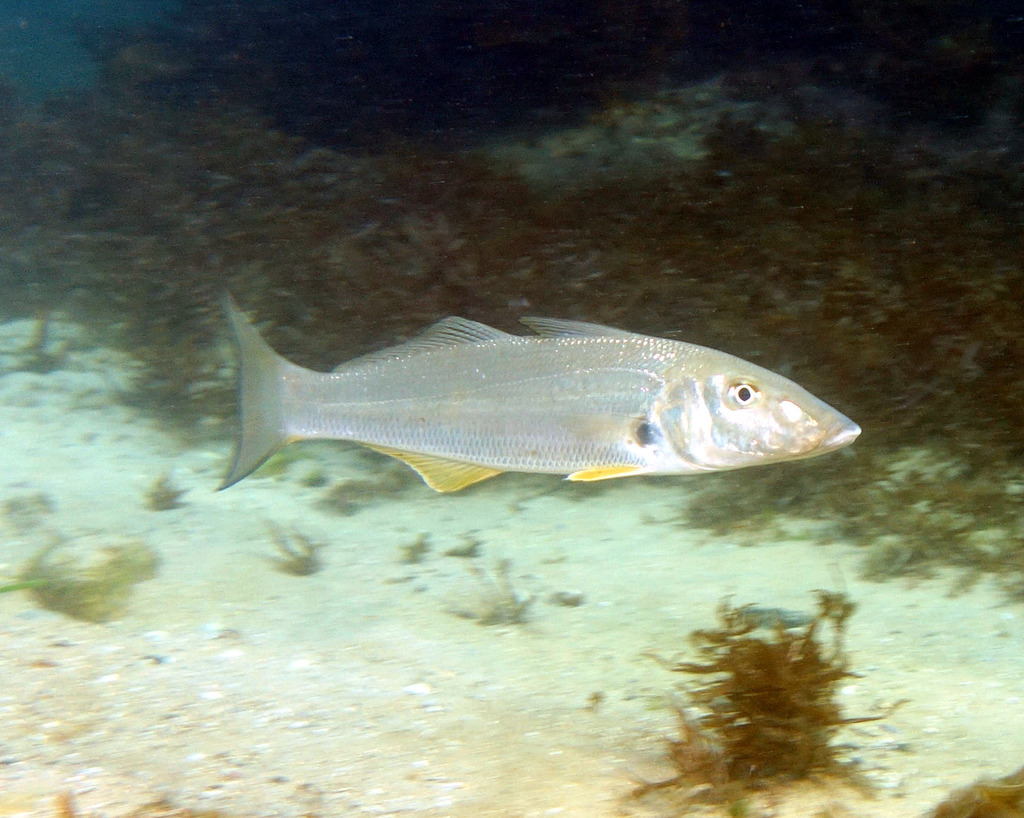kiss: (212, 283, 866, 507)
